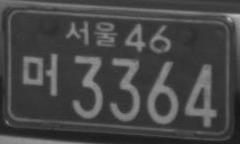3: (70, 54, 105, 121), (108, 56, 142, 124)
4: (183, 62, 218, 128), (122, 21, 146, 53)
6: (145, 60, 180, 126), (147, 23, 173, 55)
머: (20, 52, 60, 97)
서울_O: (63, 19, 118, 48)
